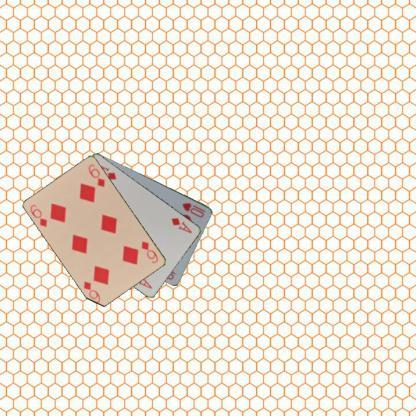10h: (180, 200, 207, 219)
6d: (138, 238, 160, 264), (27, 202, 48, 228)
Ad: (168, 215, 194, 235)
